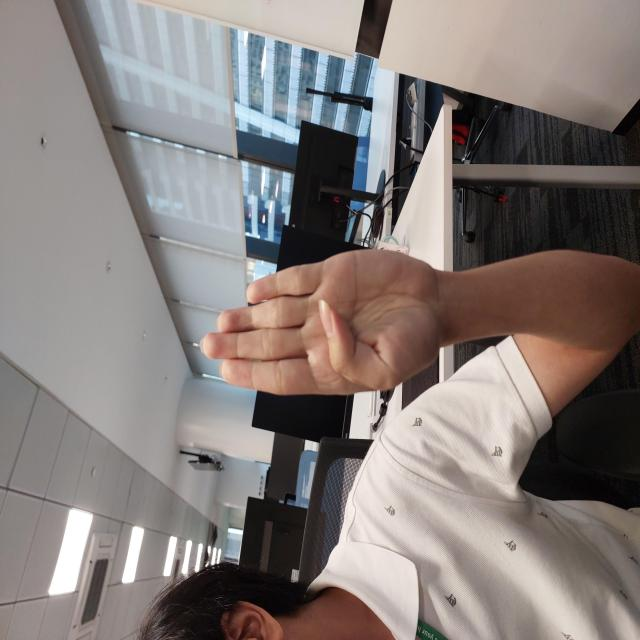B: (241, 195, 395, 442)
